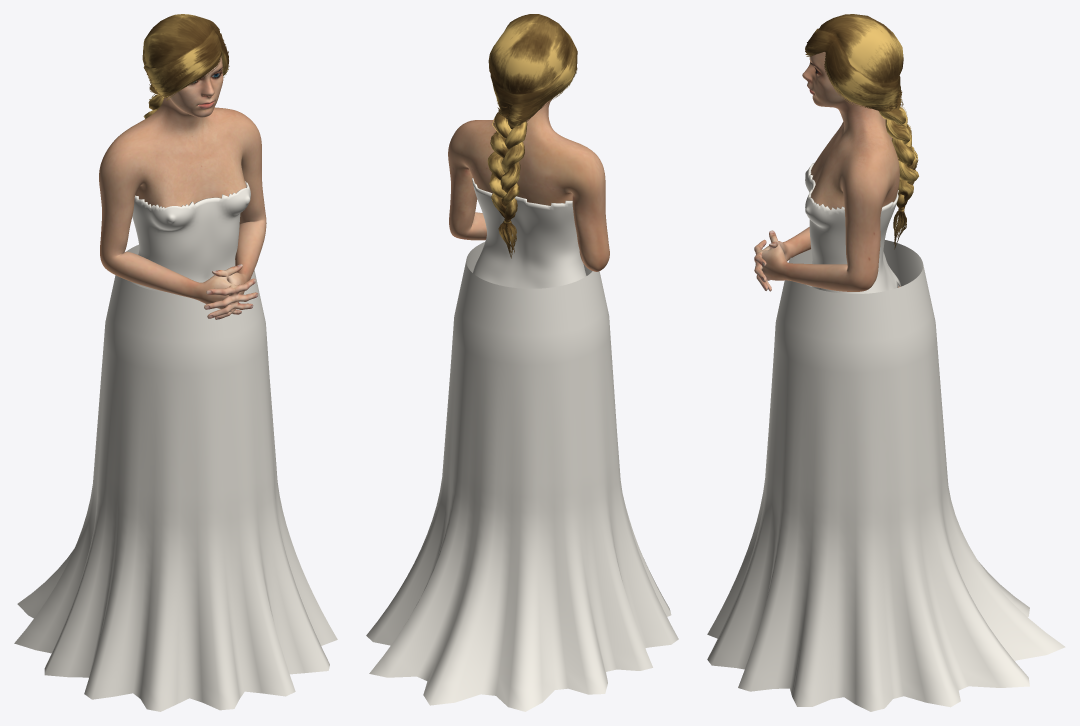
The model's file is bride_realistic.glb.
3 views of the same model, side by side, from view 1: azimuth 30°, elevation 25°; view 2: azimuth 150°, elevation 25°; view 3: azimuth 270°, elevation 25° (orthographic). The views are drawn at different scales.
Parts seen in each view (by area): view 1: gown.skirt, bride.body, gown.bodice, bride.braid01; view 2: gown.skirt, bride.body, bride.braid01, gown.bodice; view 3: gown.skirt, bride.body, bride.braid01, gown.bodice.
Boxes of the visible parts, <box> form: gown.skirt: <box>14,244,337,711</box>; bride.body: <box>99,56,266,319</box>; gown.bodice: <box>129,181,250,293</box>; bride.braid01: <box>142,14,229,118</box>; gown.skirt: <box>366,242,678,711</box>; bride.body: <box>448,96,609,271</box>; bride.braid01: <box>487,14,577,258</box>; gown.bodice: <box>472,178,586,288</box>; gown.skirt: <box>707,240,1065,711</box>; bride.body: <box>754,52,900,291</box>; bride.braid01: <box>805,14,918,249</box>; gown.bodice: <box>805,162,900,293</box>.
Bounding box in the file's own units: 0.6756 × 1.54 × 0.7893.
Materials: 7 (6 with a texture image).
